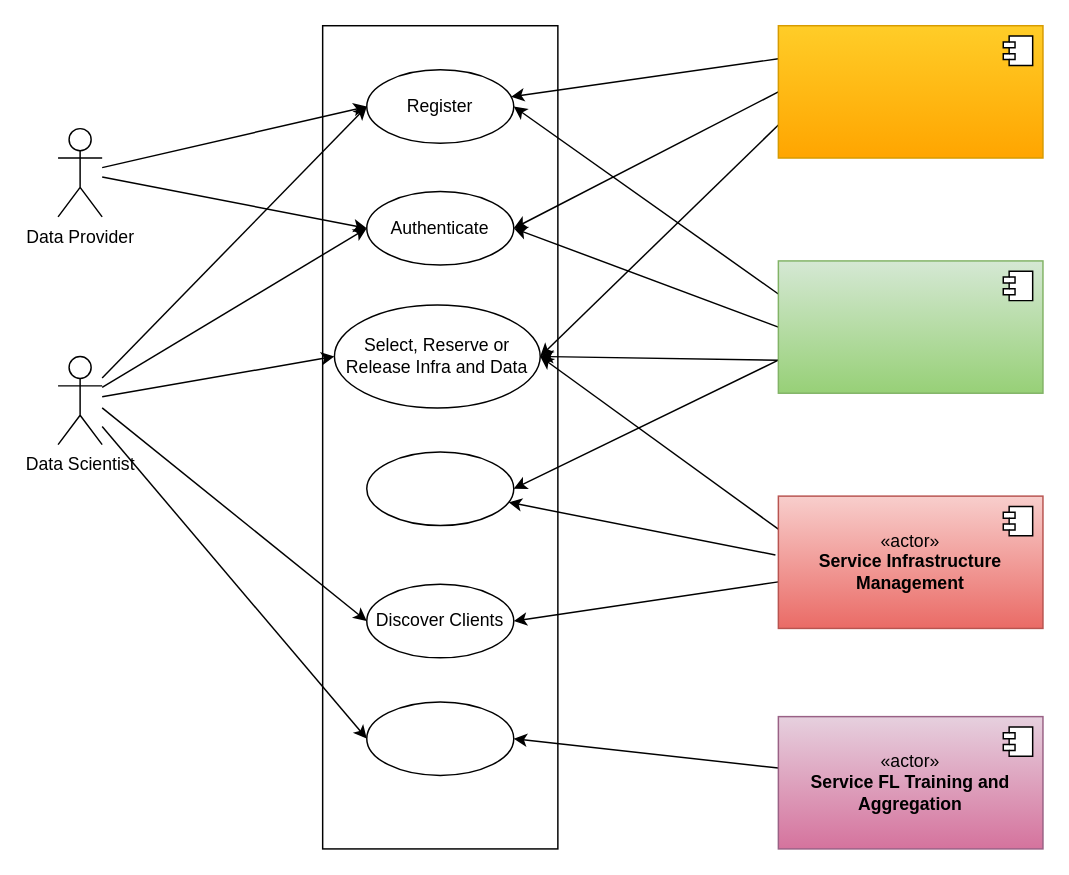
Image size: 1069x875. Some labels were removed from this diagram. The shapes that lost their labels are listed below. From the top down, each one's centre as x and y in pixels, then its label:
At point (910, 91): "«actor» Service User Management".
At point (910, 326): "«actor» Data Base".
At point (439, 488): "Register Infrastructure".
At point (439, 737): "Initiate FL Training".
